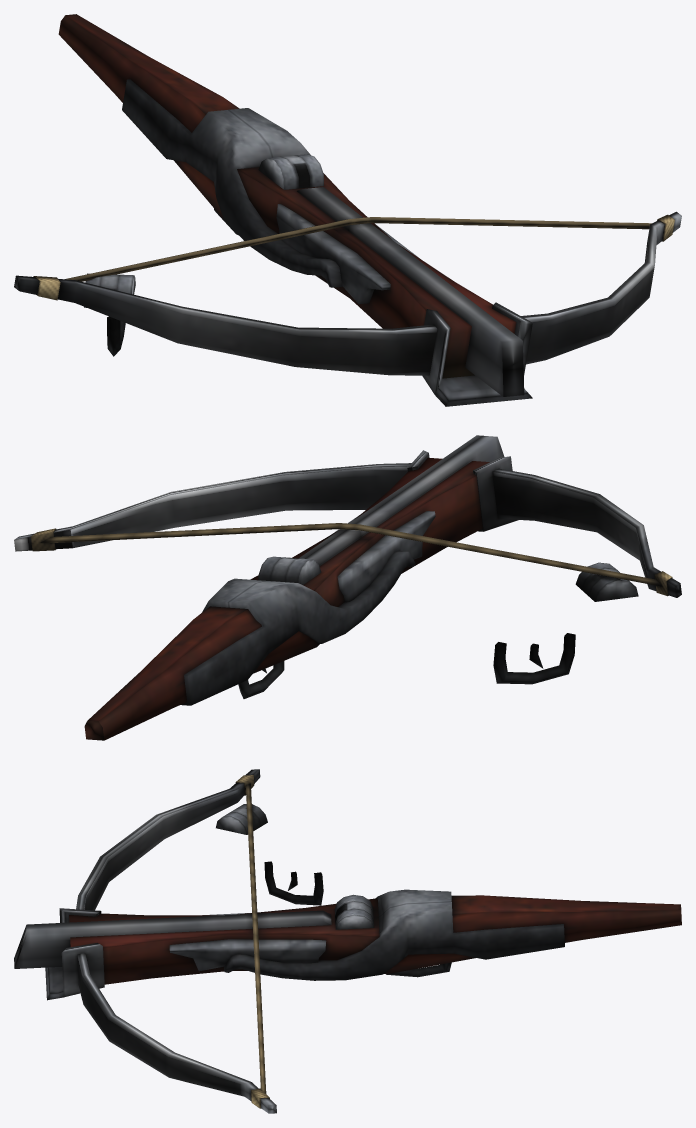
Rendered from crossbow 2.fbx.
3 renders of one model, top to bottom at view 1: azimuth 30°, elevation 25°; view 2: azimuth 150°, elevation 25°; view 3: azimuth 270°, elevation 25°, orthographic. The views are drawn at different scales.
Parts seen in each view (by area): view 1: Crossbow2; view 2: Crossbow2; view 3: Crossbow2.
Boxes of the visible parts, x1,y1,x2,y2 form: Crossbow2: (14,14,681,406); Crossbow2: (14,435,681,740); Crossbow2: (14,769,681,1113).
Bounding box in the file's own units: 0.9969 × 0.1691 × 1.11.
